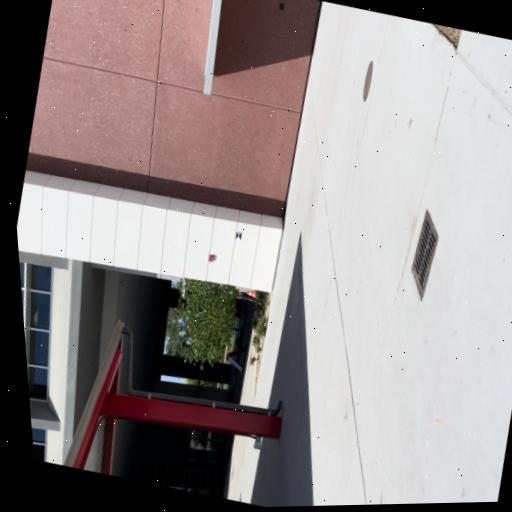target9: (234, 230, 243, 241)
